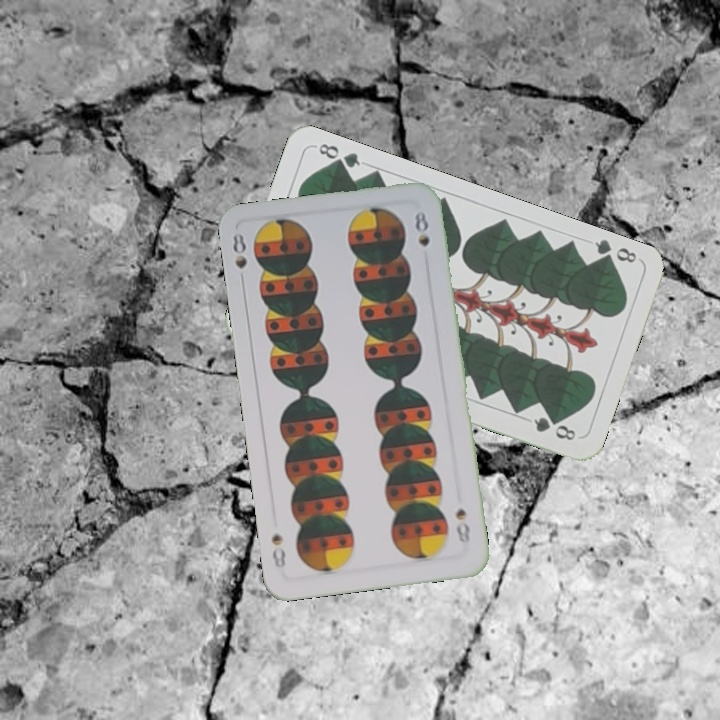G8: (590, 235, 639, 269)
S8: (229, 229, 250, 288), (452, 504, 473, 547)
